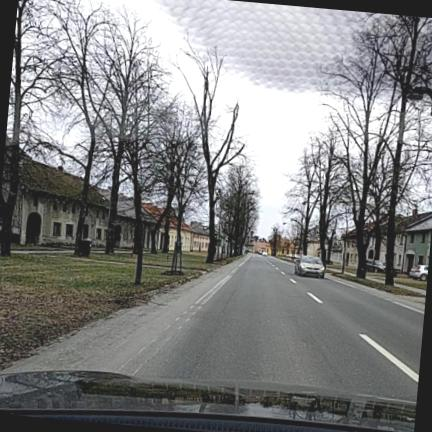Road: (8, 255, 424, 400)
